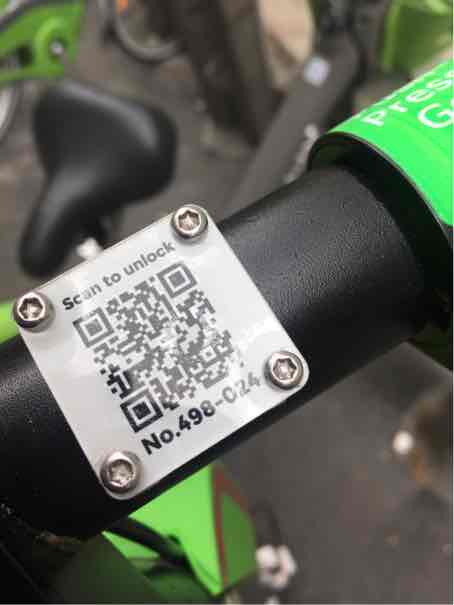scooter: (3, 12, 443, 605)
